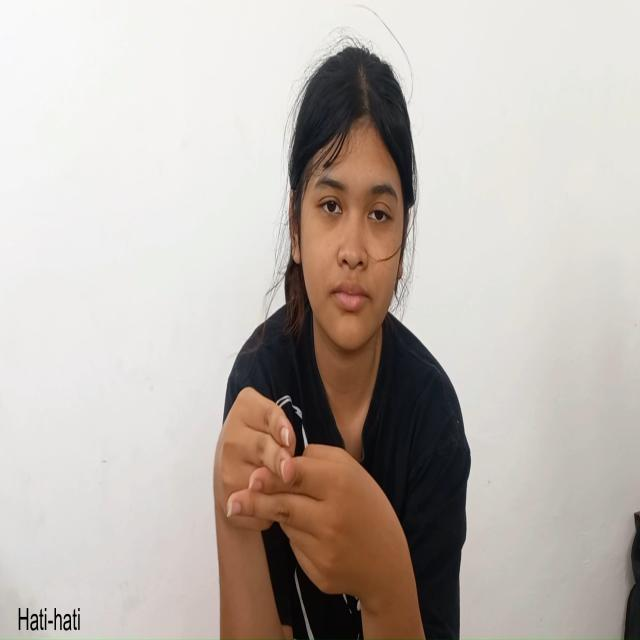Hati-hati -BISINDO-: (212, 384, 398, 619)
